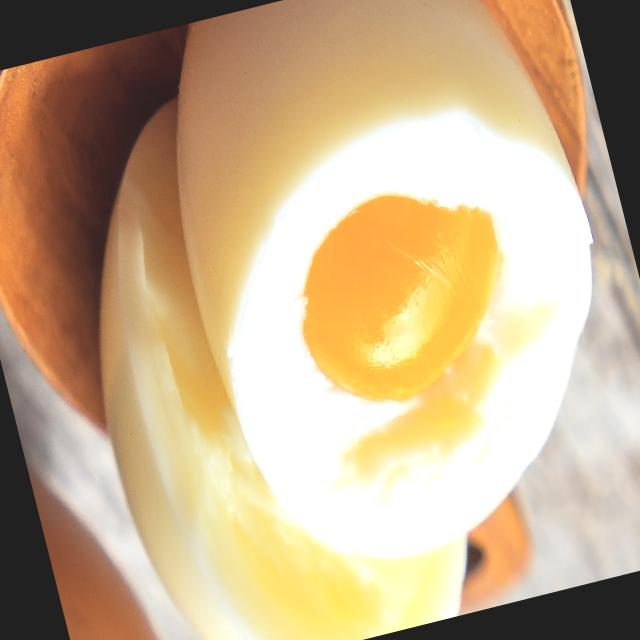trung luoc: (100, 0, 592, 640)
